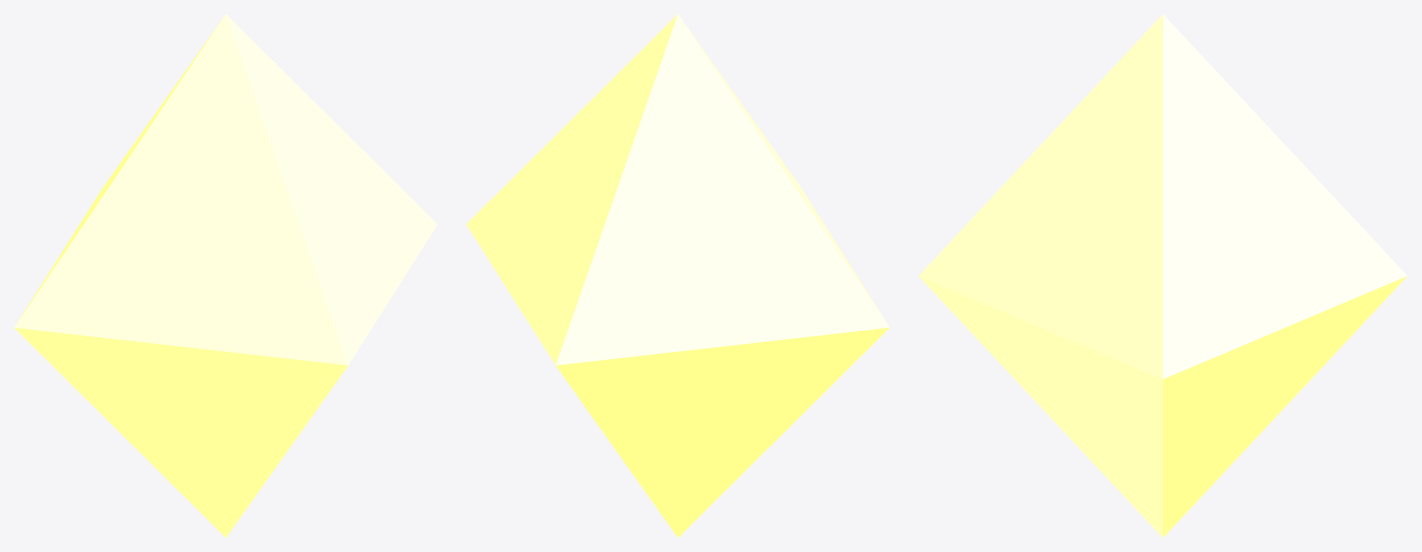
File: aura.glb
3 renders of one model, left to right at view 1: azimuth 30°, elevation 25°; view 2: azimuth 150°, elevation 25°; view 3: azimuth 270°, elevation 25°, orthographic.
Parts seen in each view (by area): view 1: AuraGoldDiamond; view 2: AuraGoldDiamond; view 3: AuraGoldDiamond.
Boxes of the visible parts, x1,y1,x2,y2 form: AuraGoldDiamond: (14, 14, 437, 537); AuraGoldDiamond: (466, 14, 889, 537); AuraGoldDiamond: (919, 14, 1406, 537).
Bounding box in the file's own units: 2.2 × 2.6 × 2.2.
